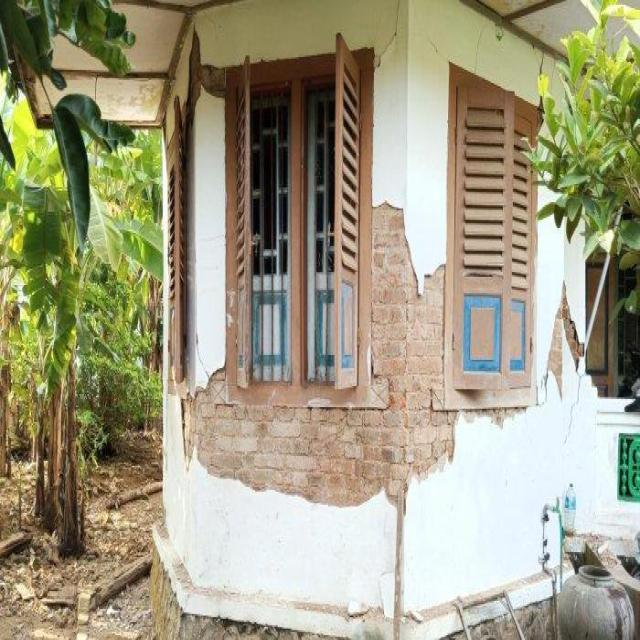damage: (356, 179, 460, 541), (168, 352, 356, 524), (531, 267, 593, 439), (153, 26, 247, 109), (466, 0, 499, 105), (374, 0, 413, 81), (420, 16, 451, 81)
